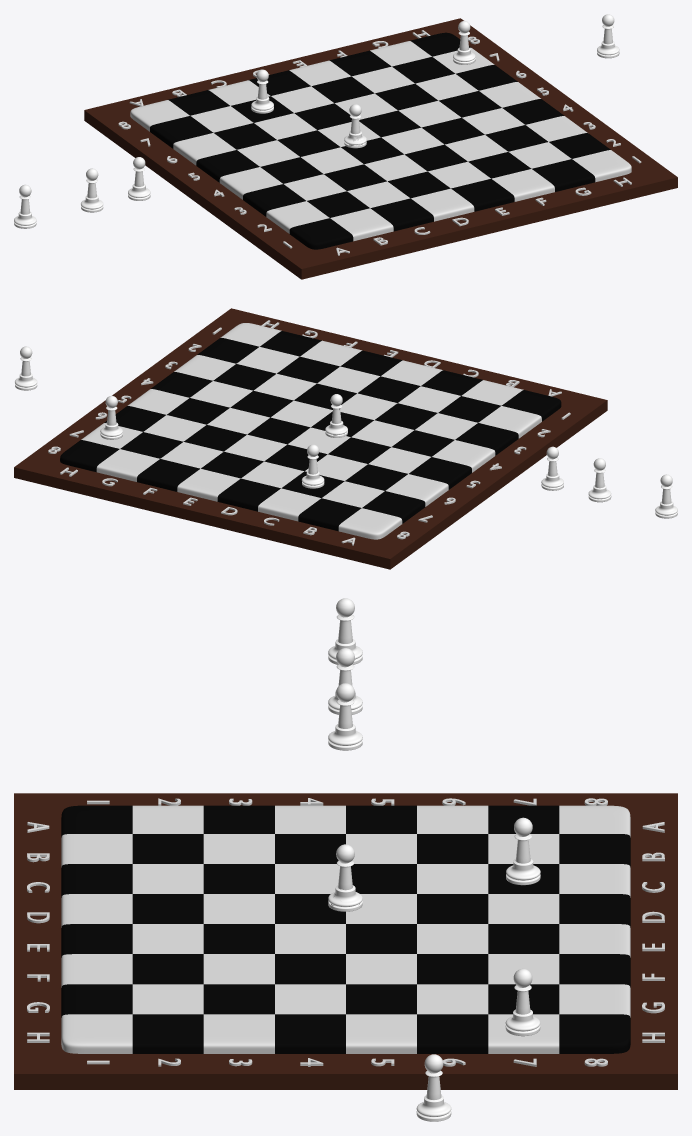
File: chessboard2.glb
3 renders of one model, top to bottom at view 1: azimuth 30°, elevation 25°; view 2: azimuth 150°, elevation 25°; view 3: azimuth 270°, elevation 25°, orthographic. The views are drawn at different scales.
Visible parts, largest first — view 1: main, outer, pawn.002, black_pawn.002, black_pawn.001, pawn.001, black_pawn, pawn.003, pawn; view 2: main, outer, pawn.002, pawn.001, black_pawn.002, black_pawn.001, black_pawn, pawn.003, pawn; view 3: main, outer, black_pawn.002, black_pawn.001, black_pawn, pawn, pawn.003, pawn.001, pawn.002.
Part boxes in pixels (x1,y1,x2,y2): main: (130, 32, 631, 249); outer: (84, 18, 677, 279); pawn.002: (81, 168, 103, 212); black_pawn.002: (251, 69, 273, 113); black_pawn.001: (597, 14, 619, 58); pawn.001: (14, 184, 36, 228); black_pawn: (453, 21, 475, 64); pawn.003: (128, 157, 150, 200); pawn: (344, 104, 366, 148); main: (60, 323, 561, 539); outer: (14, 308, 607, 569); pawn.002: (588, 458, 611, 502); pawn.001: (655, 474, 677, 518); black_pawn.002: (301, 444, 324, 488); black_pawn.001: (15, 346, 37, 390); black_pawn: (100, 395, 122, 439); pawn.003: (541, 446, 563, 490); pawn: (325, 394, 347, 437); main: (61, 805, 630, 1053); outer: (14, 793, 677, 1089); black_pawn.002: (506, 817, 540, 885); black_pawn.001: (416, 1054, 451, 1121); black_pawn: (505, 968, 540, 1036); pawn: (328, 844, 362, 911); pawn.003: (328, 683, 362, 750); pawn.001: (328, 598, 362, 664); pawn.002: (328, 648, 362, 714).
Bounding box in the file's own units: 1.17 × 0.1002 × 0.7.
